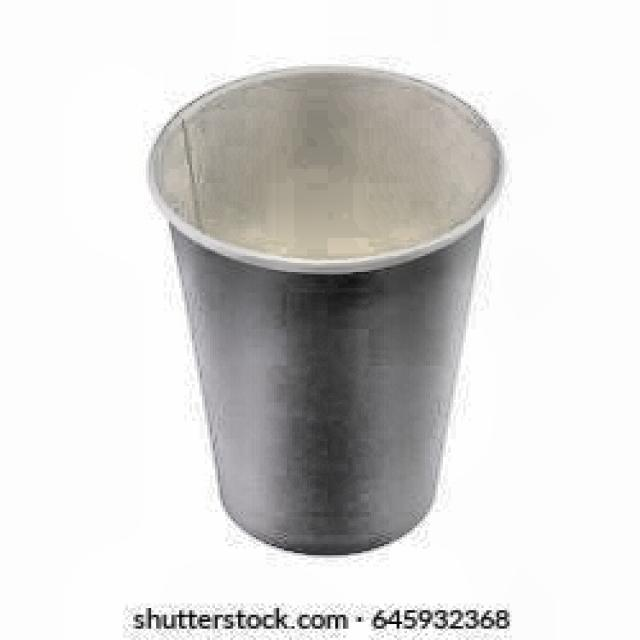Cup: (135, 58, 514, 562)
